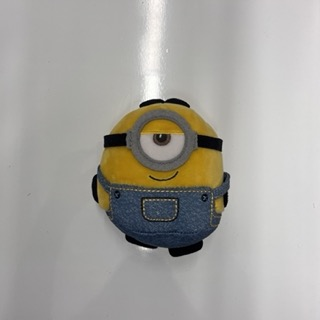minion: (91, 97, 231, 258)
